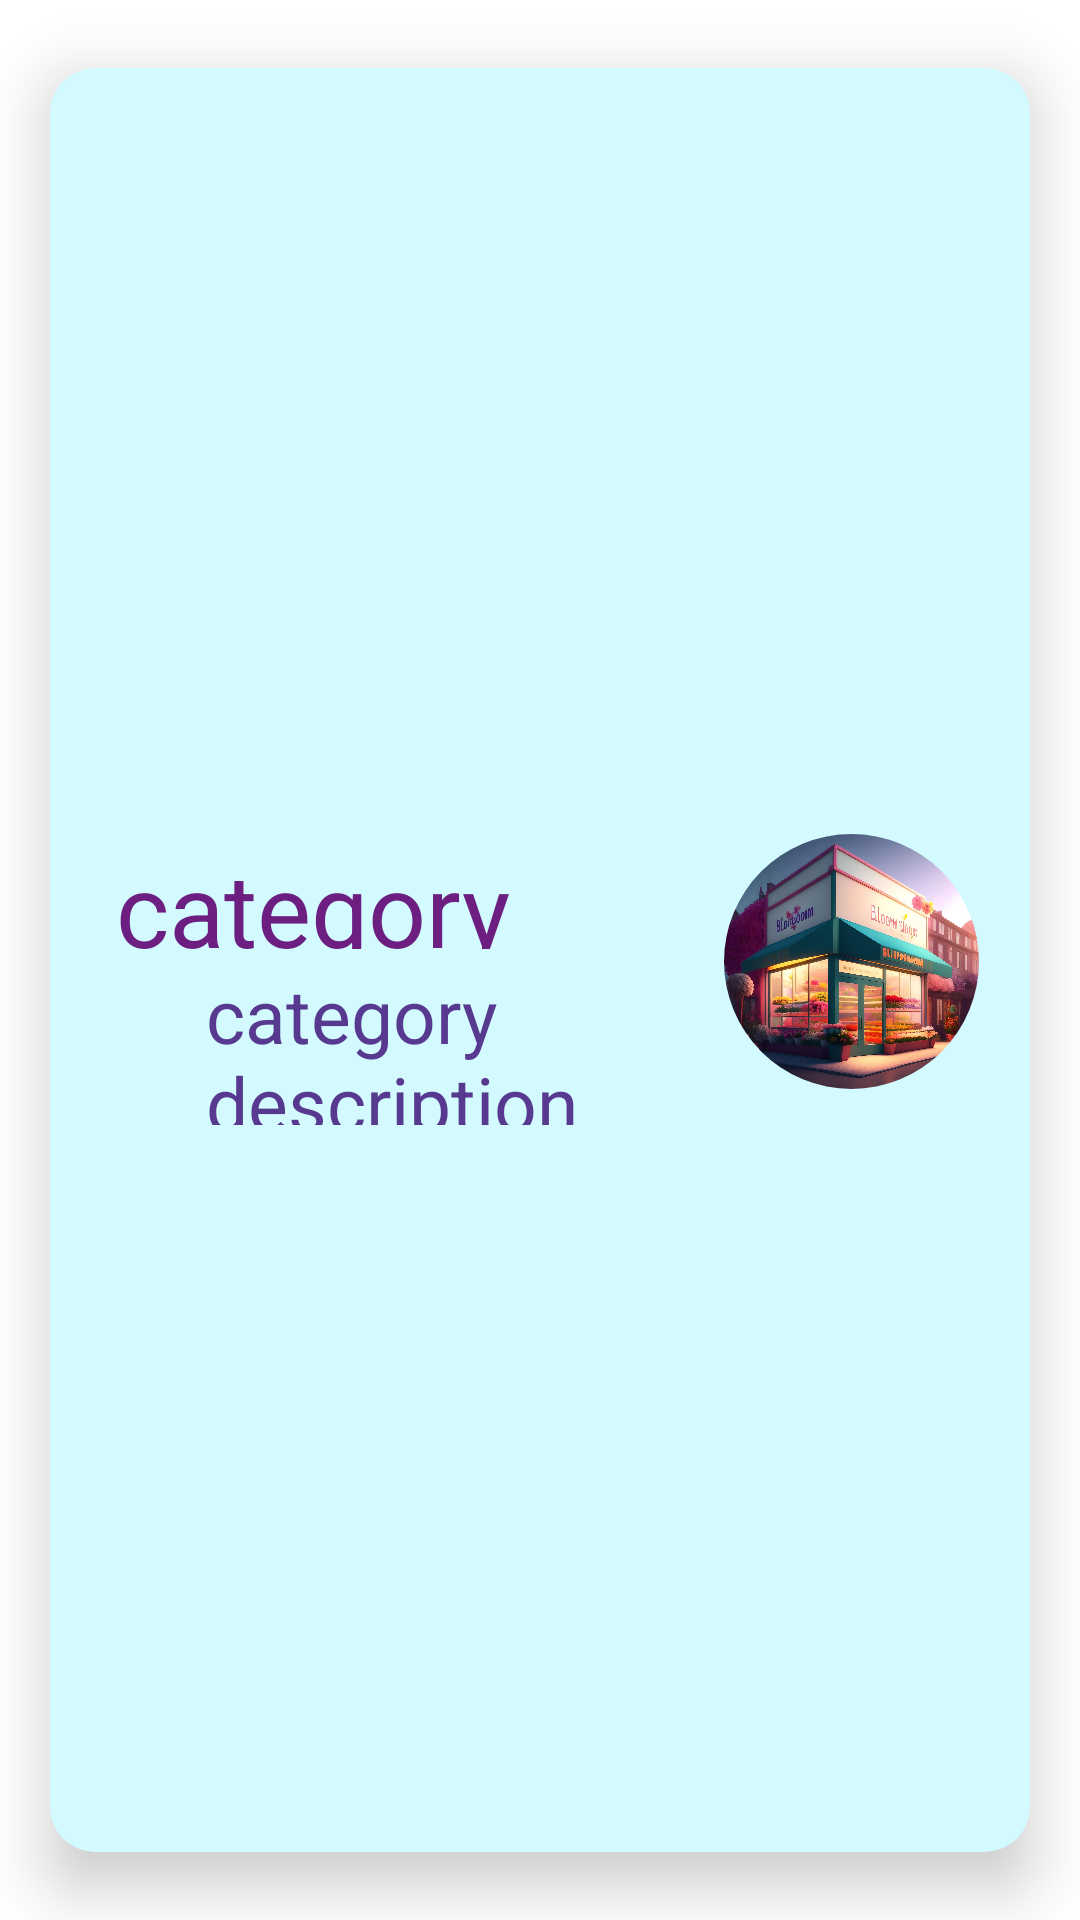

Icons on this 1080*1920 Android screen, each with its box as (x1, y1, x2, y2):
homeshop: (724, 834, 979, 1089)
